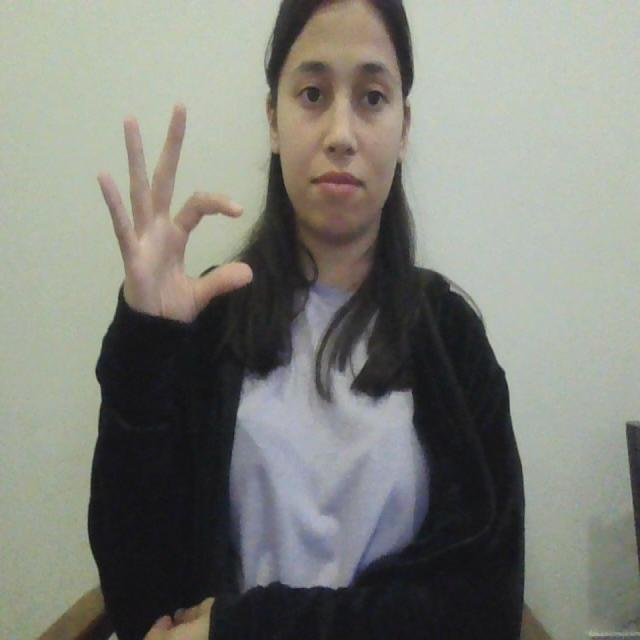Tuvalet: (83, 88, 263, 340)
